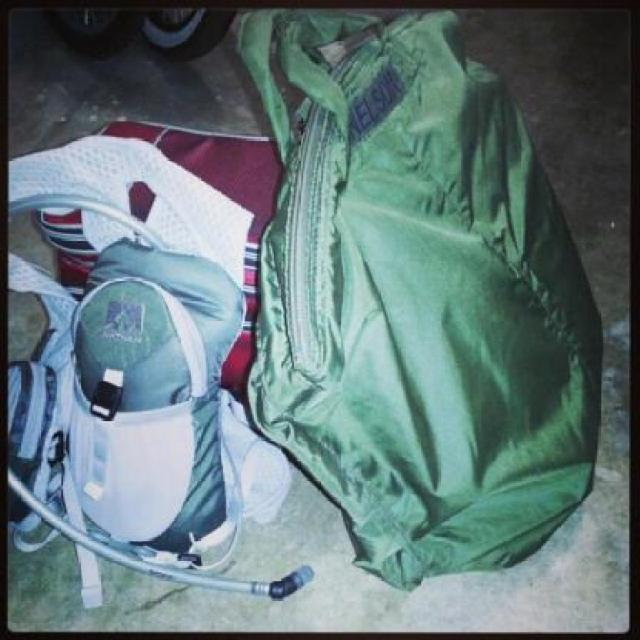backpack: (231, 8, 614, 598), (6, 129, 259, 594)
